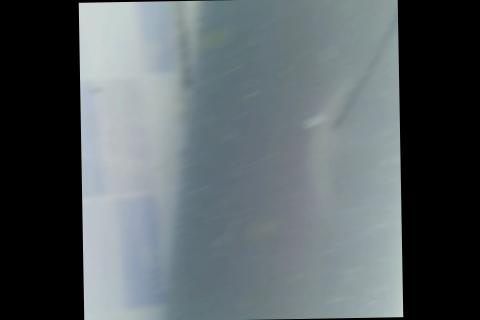keretakan: (321, 1, 399, 132)
